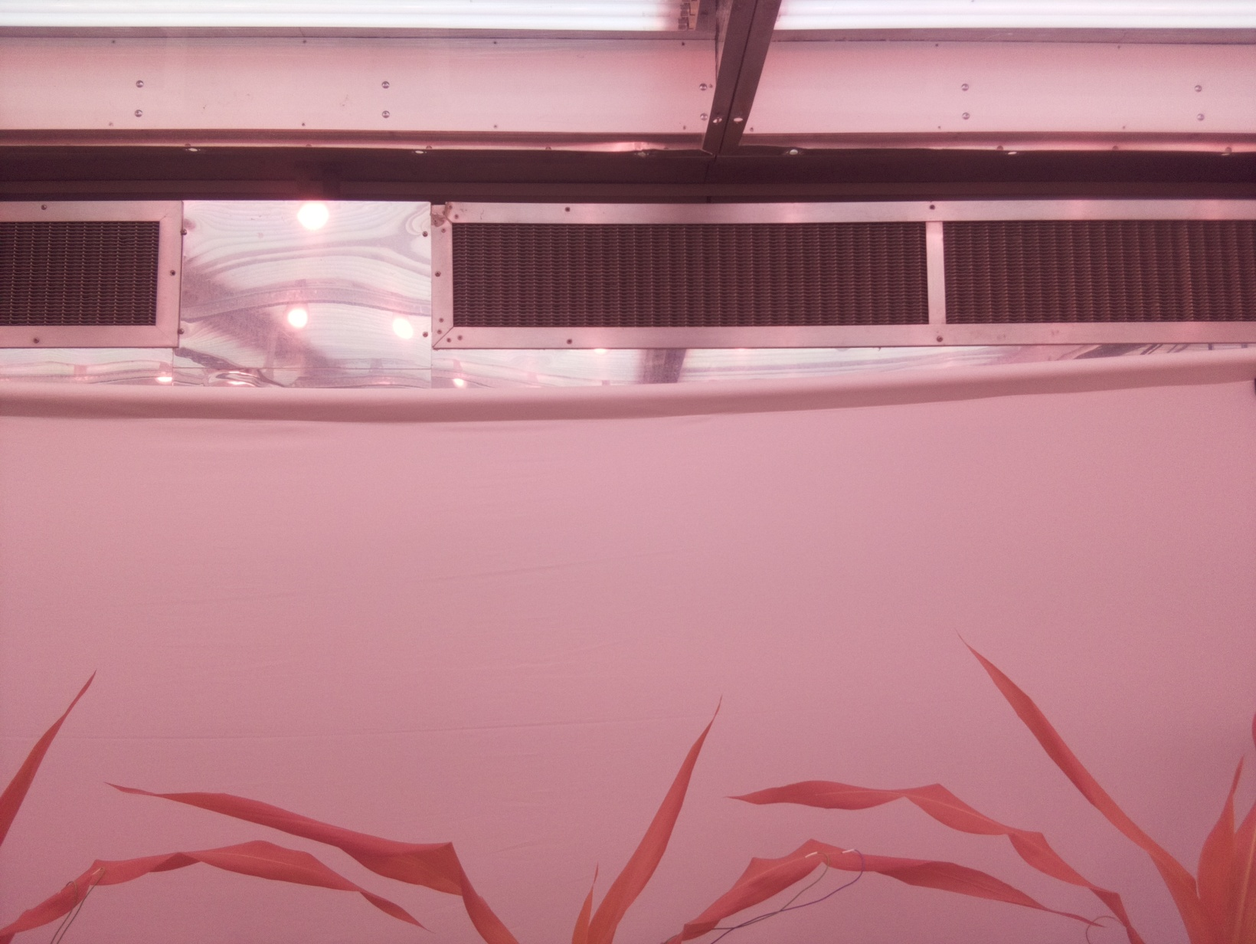maize: (102, 694, 1108, 944), (724, 629, 1256, 944), (0, 668, 437, 944)
